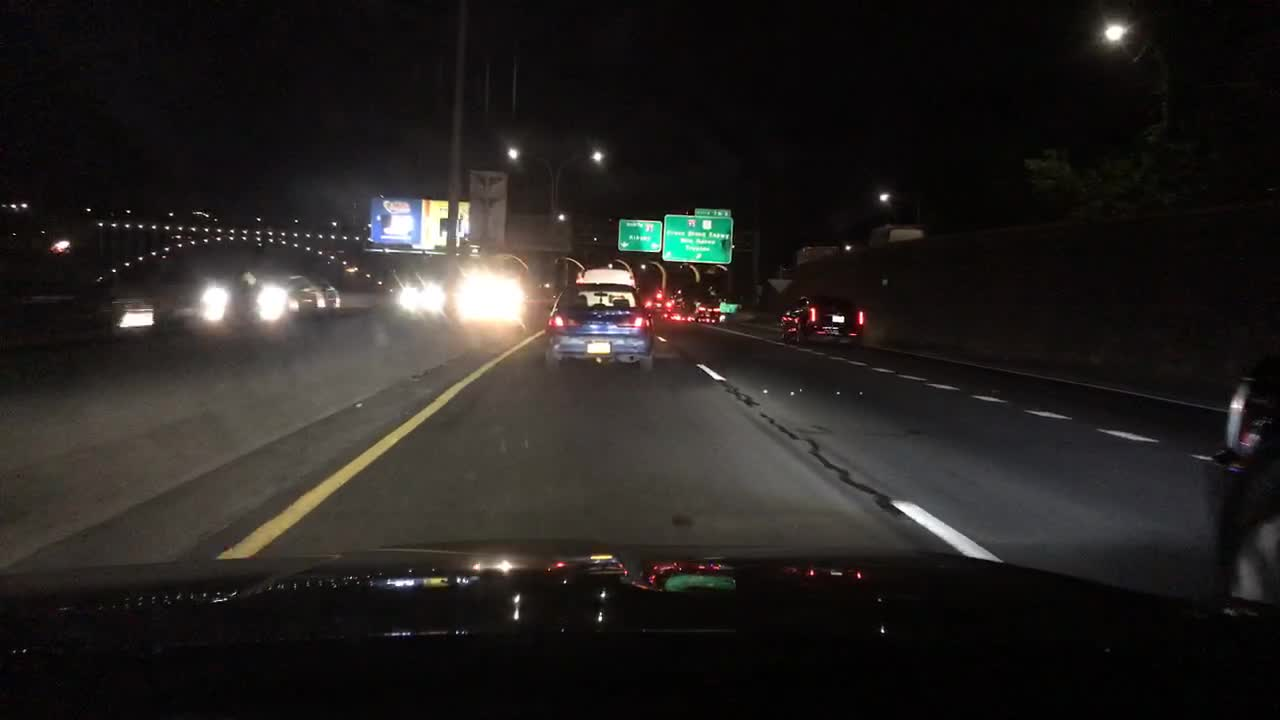bus: (575, 268, 637, 286)
car: (1203, 352, 1277, 599), (549, 285, 658, 371), (780, 297, 867, 343), (275, 274, 318, 311), (398, 281, 446, 308), (312, 283, 339, 305), (644, 297, 672, 318), (694, 303, 720, 322), (668, 307, 691, 324)
traffic sign: (660, 213, 734, 263), (617, 217, 663, 252), (694, 208, 729, 216), (719, 302, 741, 313)
